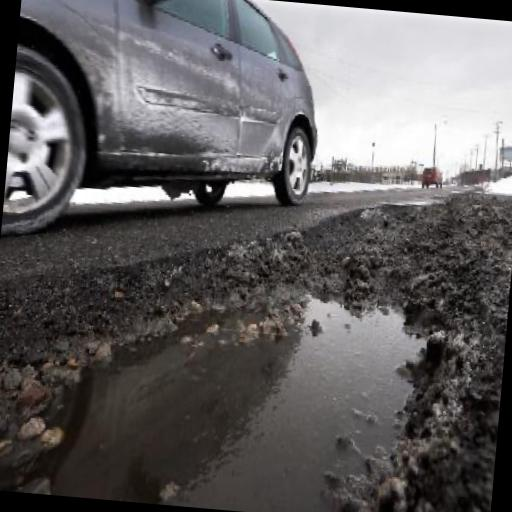pothole: (0, 157, 512, 512)
